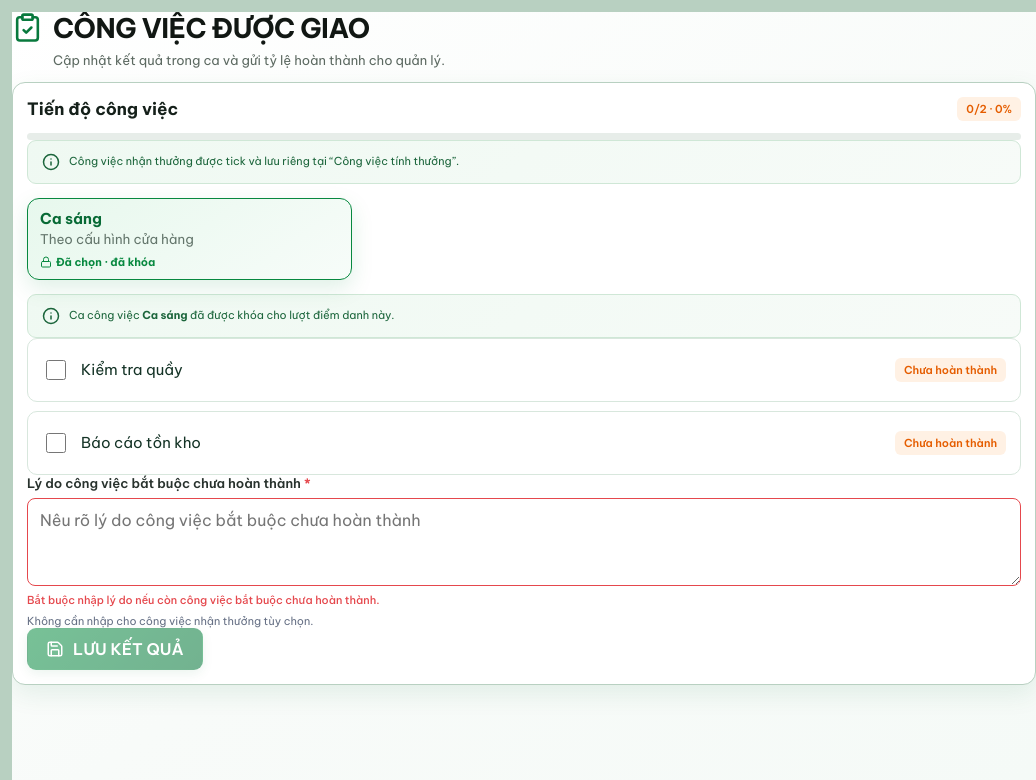
Test: employee shift operations › requires one reason for incomplete fixed work and submits every task with the calculated progress
Expected: the text "Kiểm tra quầy" is shown once, [81,360,183,379]
Click the checkbox labelled "Kiểm tra quầy Chưa hoàn thành". click: (56, 370)
box: [46,360,66,380]
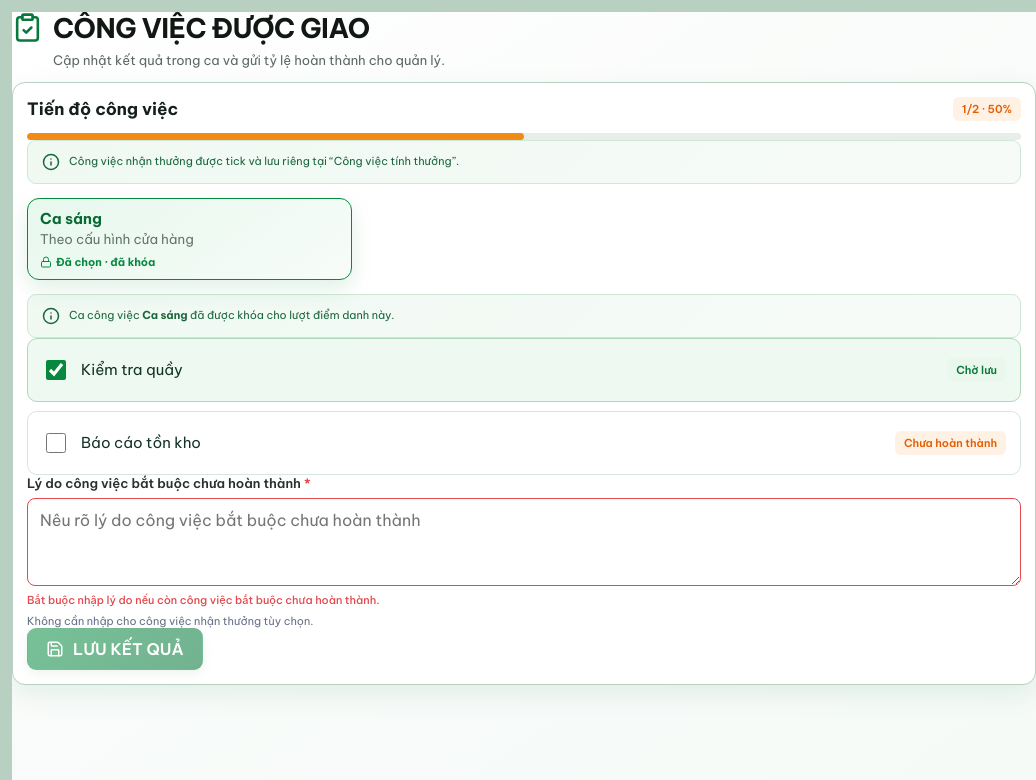
Expected: the button "LƯU KẾT QUẢ" is disabled, [27,628,202,670]
Expected: the text "1/2 · 50%" is shown, [953,97,1021,121]
Type "Chưa kiểm xong kho cuối ca" into the text box labelled "Lý do công việc bắt buộc chưa hoàn thành". click: (524, 542)
box: [27,498,1021,586]
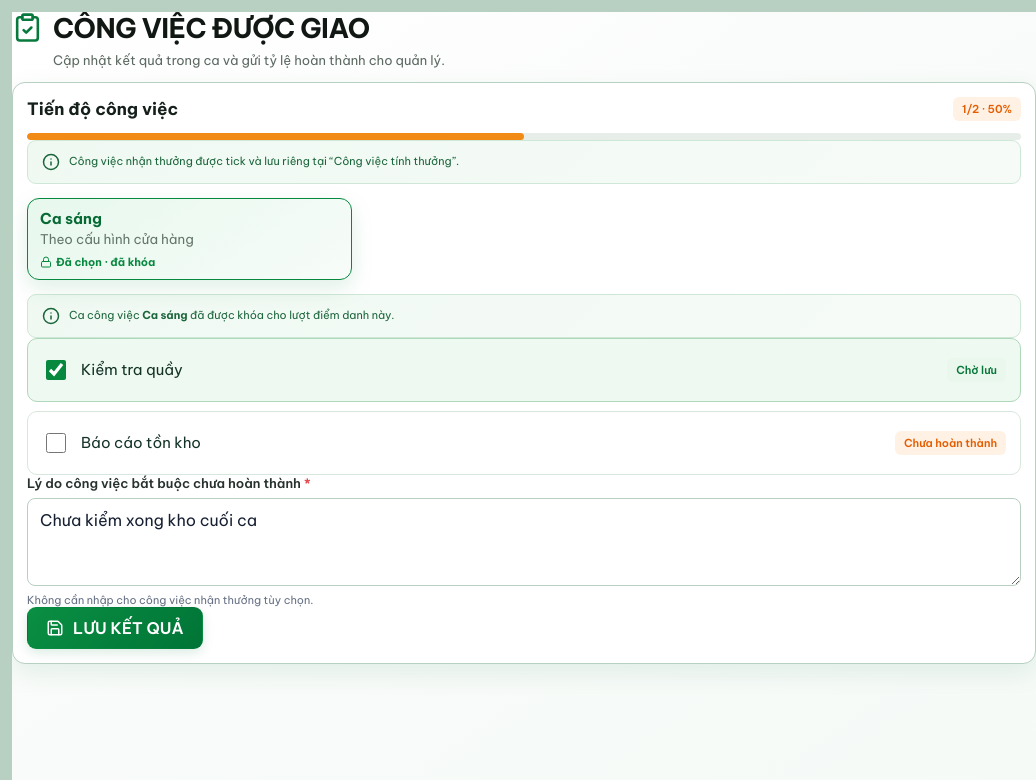
Click the button "LƯU KẾT QUẢ". click: (115, 628)
box: [27,607,202,649]
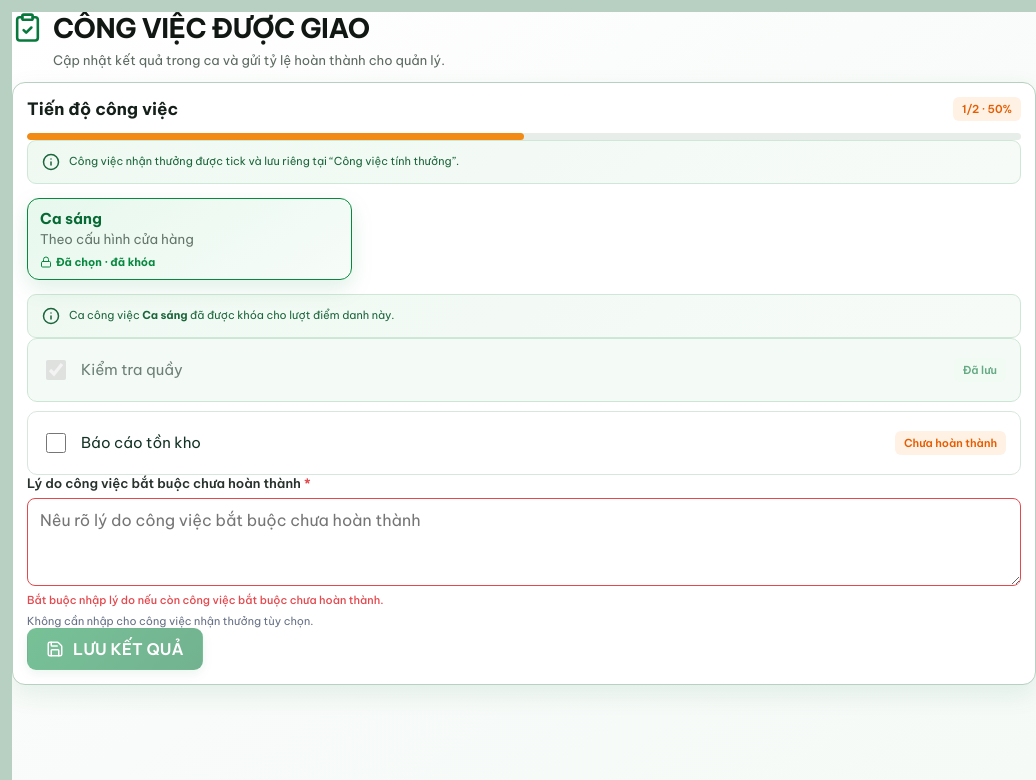
Expected: the checkbox labelled "Kiểm tra quầy Đã lưu" is disabled, [46,360,66,380]
Expected: the text "Đã lưu" is shown, [954,358,1006,382]
